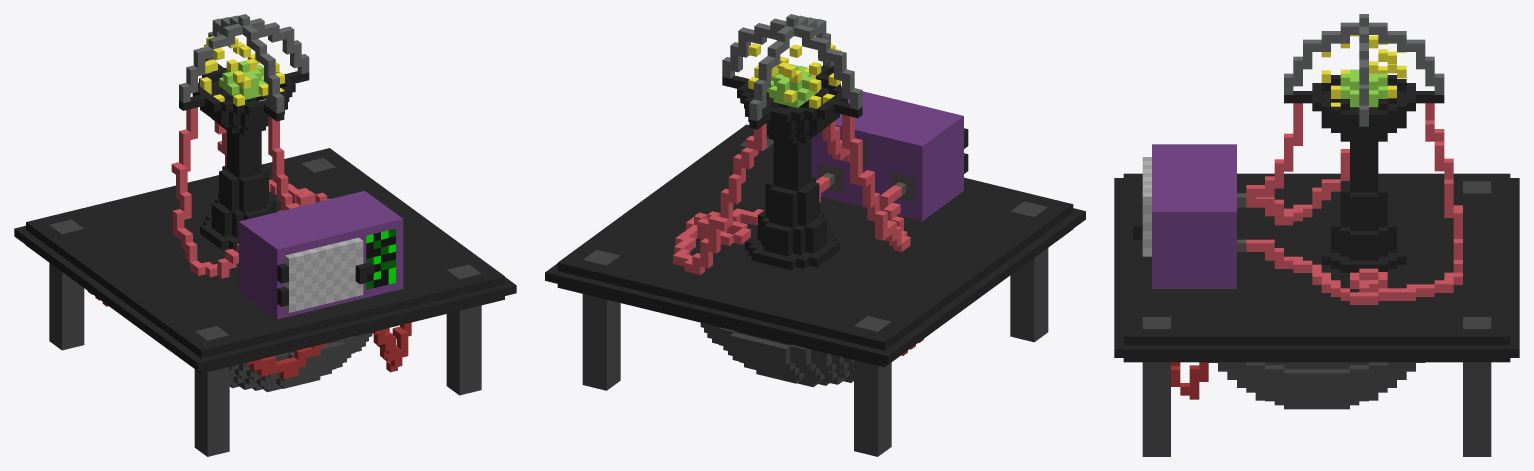
Rendered from Microwave.3.dae.
3 views of the same model, side by side, from view 1: azimuth 30°, elevation 25°; view 2: azimuth 150°, elevation 25°; view 3: azimuth 270°, elevation 25° (orthographic). The views are drawn at different scales.
Visible parts, largest first — view 1: Microwave3; view 2: Microwave3; view 3: Microwave3.
Boxes of the visible parts, x1=… form: Microwave3: x1=14, y1=14, x2=516, y2=456; Microwave3: x1=545, y1=14, x2=1085, y2=456; Microwave3: x1=1114, y1=14, x2=1519, y2=456.
Bounding box in the file's own units: 43 × 43 × 43.
Materials: 1 (1 with a texture image).
